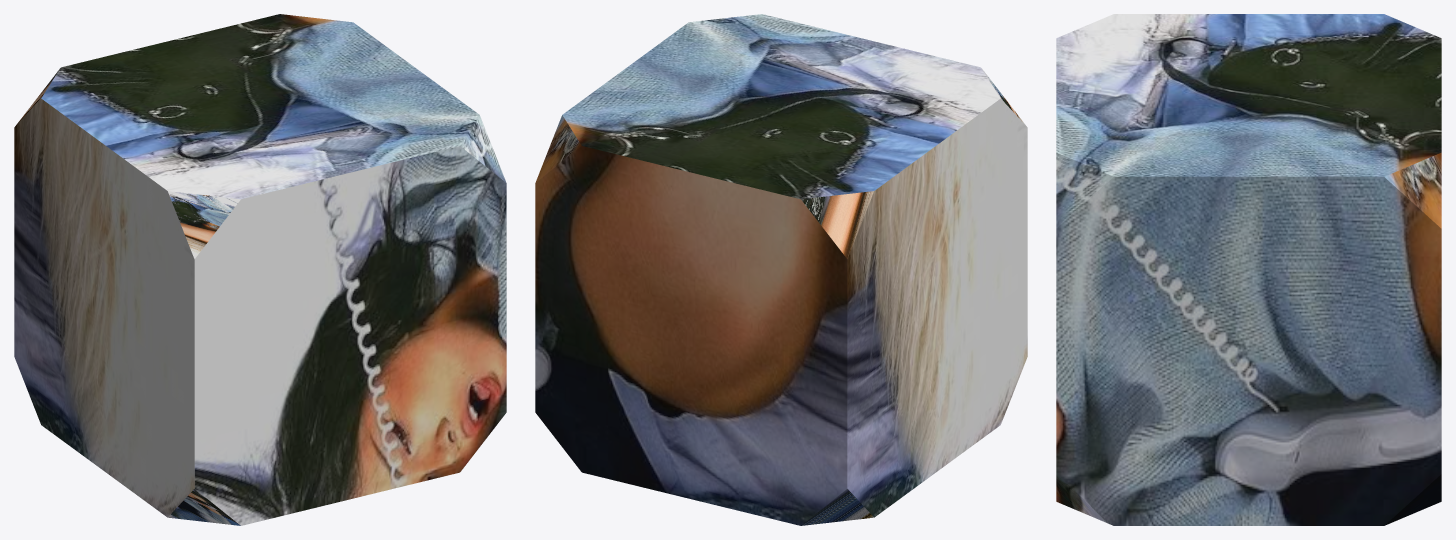
3 renders of one model, left to right at view 1: azimuth 30°, elevation 25°; view 2: azimuth 150°, elevation 25°; view 3: azimuth 270°, elevation 25°, orthographic. The views are drawn at different scales.
Visible parts, largest first — view 1: Cube; view 2: Cube; view 3: Cube.
Part boxes in pixels (left/top/right/bottom): Cube: left=14, top=14, right=506, bottom=525; Cube: left=535, top=14, right=1027, bottom=525; Cube: left=1056, top=14, right=1441, bottom=525.
Bounding box in the file's own units: 2 × 2 × 2.
Materials: 1 (1 with a texture image).
